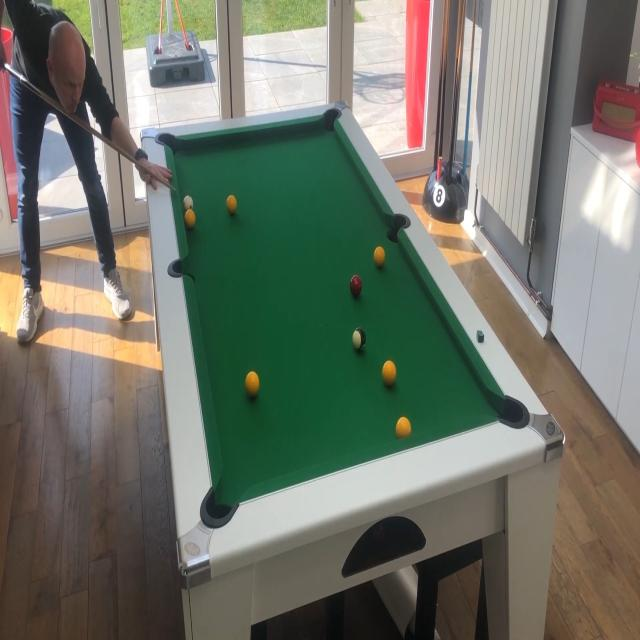Ball: (382, 360, 397, 388), (352, 326, 366, 352), (246, 372, 259, 398), (396, 416, 411, 438), (373, 246, 386, 268), (350, 275, 362, 297), (185, 210, 195, 231), (226, 195, 236, 216), (183, 196, 193, 212)
Billiard table: (140, 99, 566, 589)
